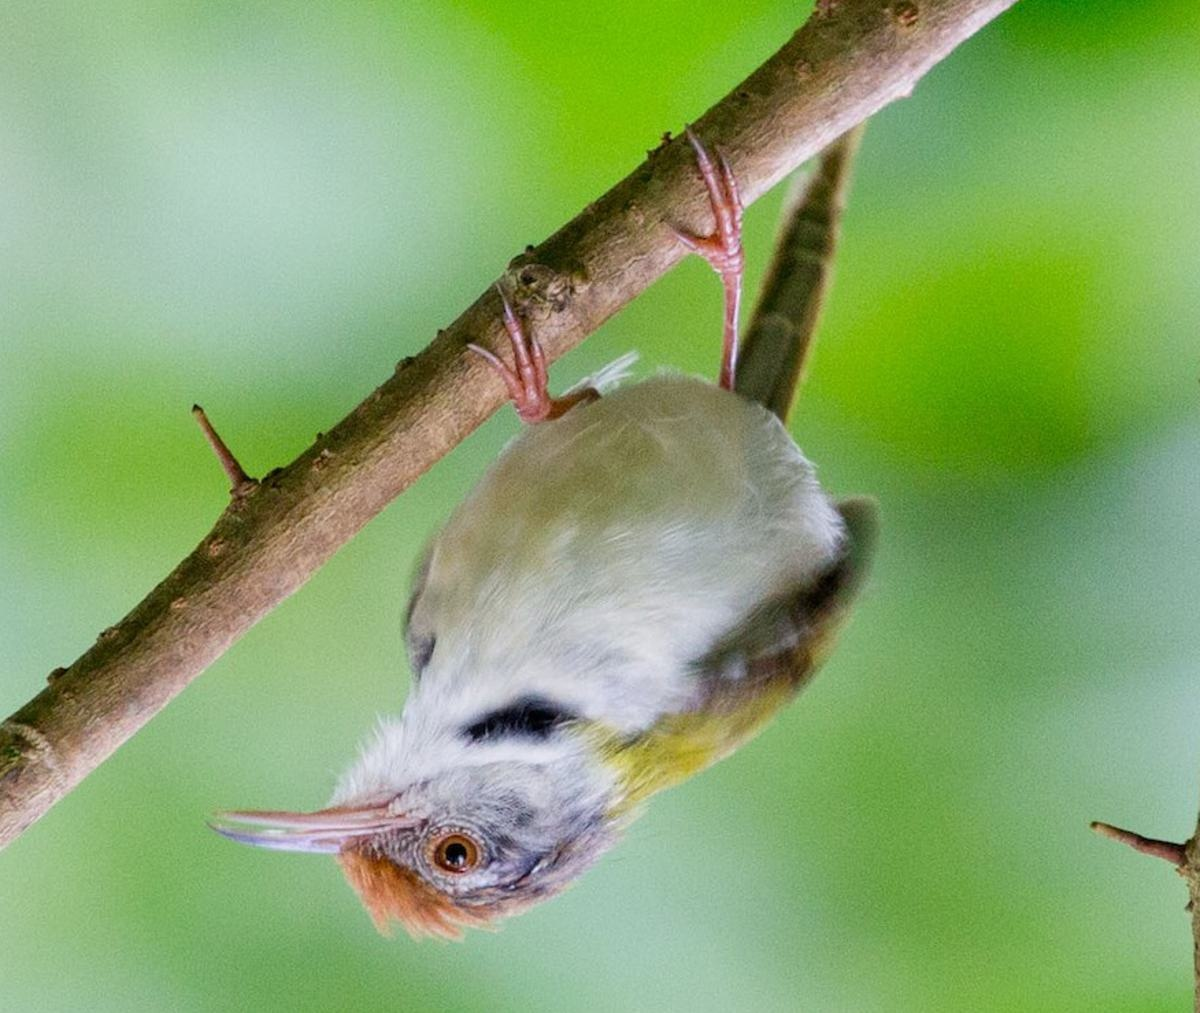tailorbird: (222, 30, 970, 957)
